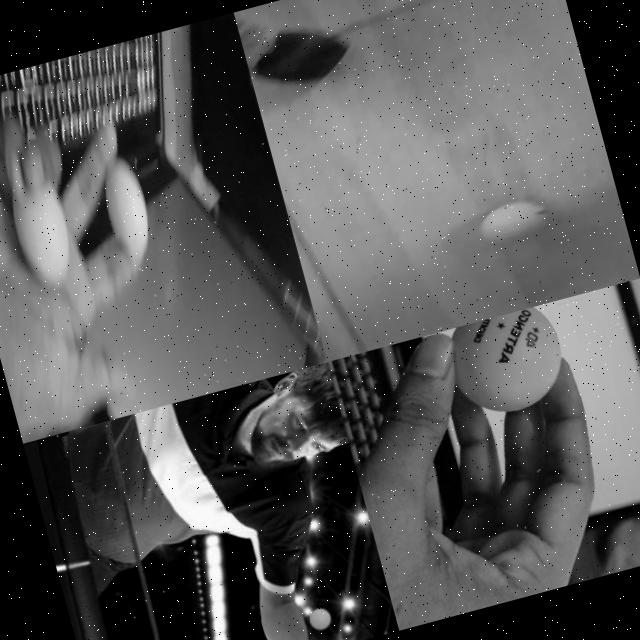ping-pong-ball: (440, 303, 573, 424), (2, 172, 82, 296), (94, 156, 155, 255), (474, 194, 551, 249), (306, 606, 332, 632)
